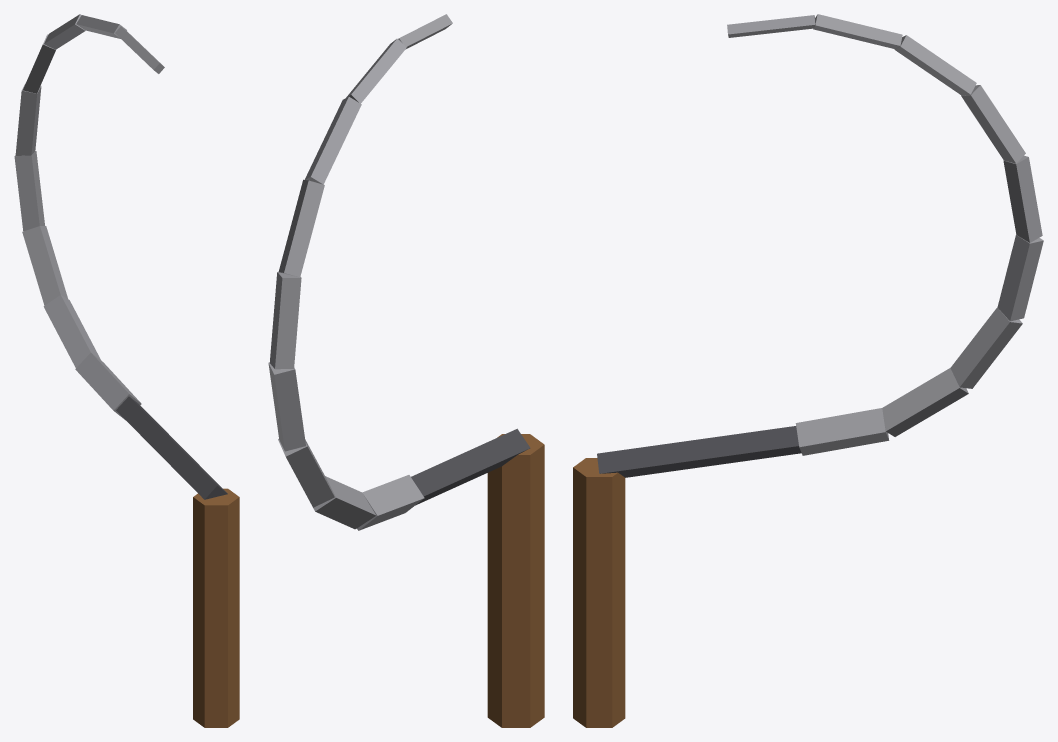
File: sickle.glb
3 renders of one model, left to right at view 1: azimuth 30°, elevation 25°; view 2: azimuth 150°, elevation 25°; view 3: azimuth 270°, elevation 25°, orthographic. The views are drawn at different scales.
Parts seen in each view (by area): view 1: sickle; view 2: sickle; view 3: sickle.
Boxes of the visible parts, box(x1,y1,x2,y2) form: sickle: box(14, 14, 239, 727); sickle: box(268, 14, 544, 727); sickle: box(573, 14, 1043, 727).
Bounding box in the file's own units: 0.0294 × 0.5051 × 0.306.
